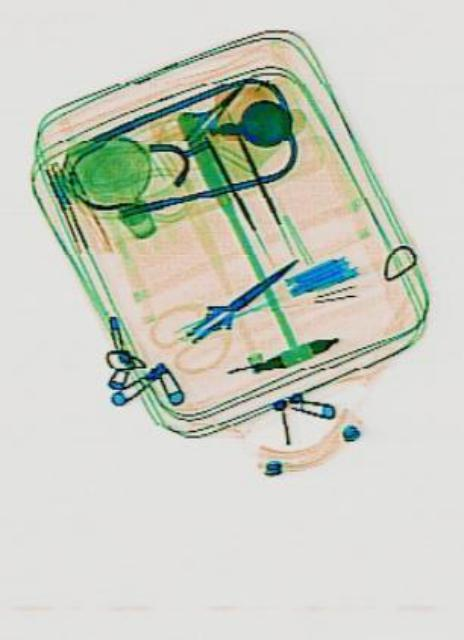Knife: (176, 239, 302, 355)
